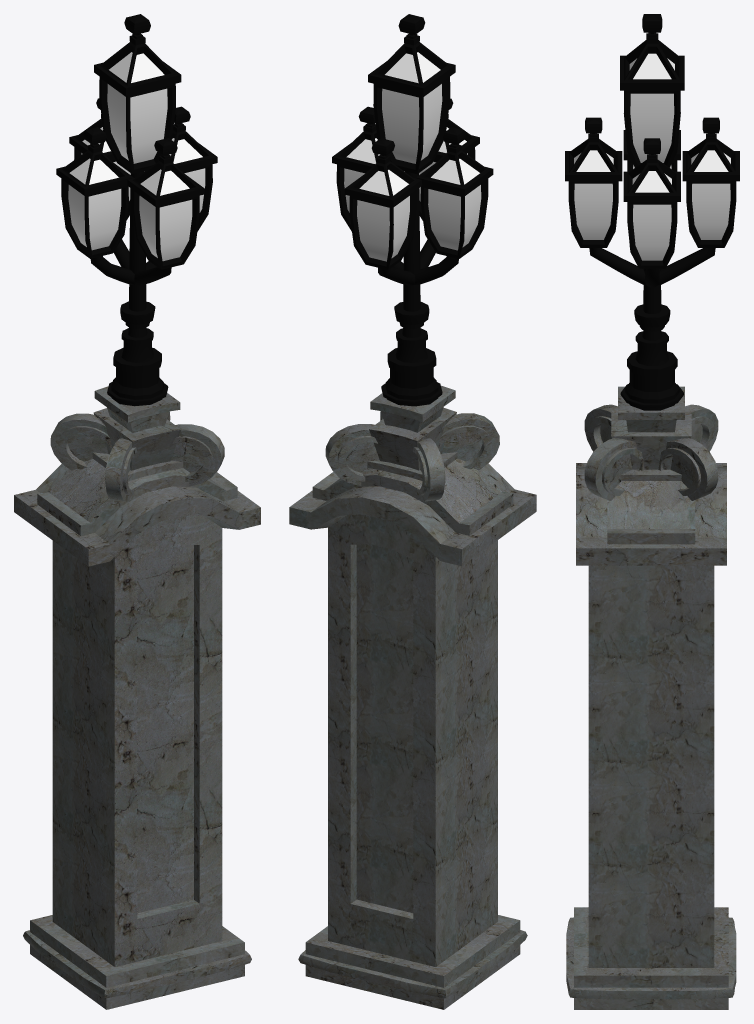
File: objLamp.obj
3 views of the same model, side by side, from view 1: azimuth 30°, elevation 25°; view 2: azimuth 150°, elevation 25°; view 3: azimuth 270°, elevation 25° (orthographic).
Parts seen in each view (by area): view 1: pillarLamp; view 2: pillarLamp; view 3: pillarLamp.
Boxes of the visible parts, x1=… form: pillarLamp: x1=14, y1=14, x2=260, y2=1009; pillarLamp: x1=289, y1=14, x2=536, y2=1009; pillarLamp: x1=565, y1=14, x2=739, y2=1009.
Size of the model in its own units: 2.34 by 12.32 by 2.03.
Materials: 3 (1 with a texture image).
